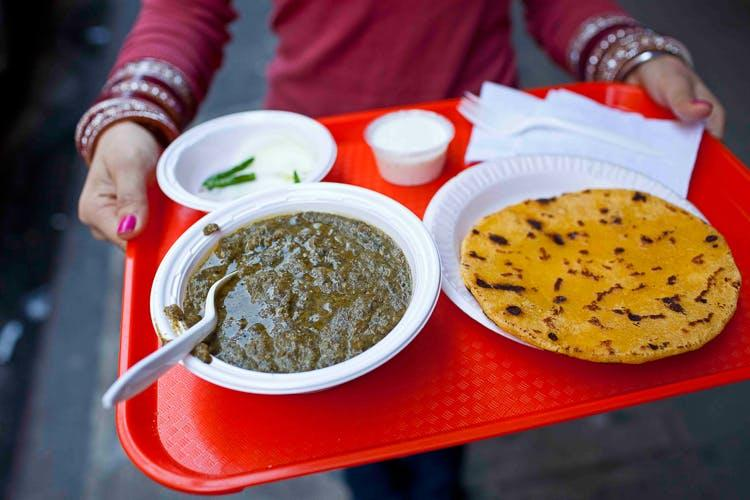saag: (186, 213, 408, 374)
